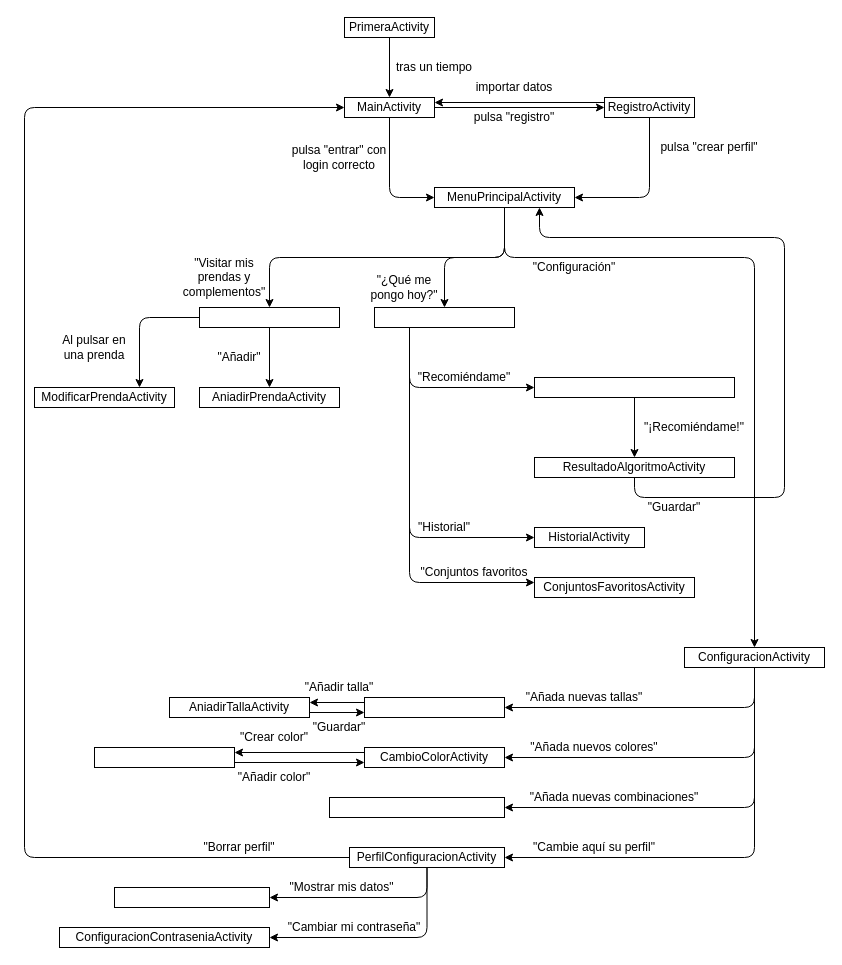
Some shapes in this 842 by 965 pixel diagram are drawn without their labels. The centre of each missing label's shape, as x and y in pixels:
AlgoritmoRecomendadorActivity: the point at 634,387
AniadirCombinacionActivity: the point at 416,807
CambioTallasActivity: the point at 434,707
MostrarDatosActivity: the point at 192,897
NuevoColorActivity: the point at 164,757
RecomendadorActivity: the point at 444,317
VestuarioActivity: the point at 269,317
